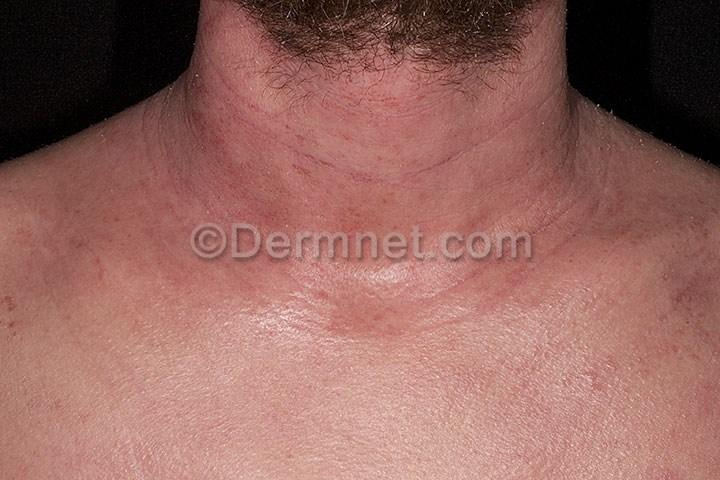Eritema 2: (0, 0, 696, 335)
exudacion 1: (226, 116, 459, 187), (184, 115, 252, 209), (216, 72, 304, 138), (0, 288, 21, 339)
xerosis 1: (582, 91, 719, 186)
